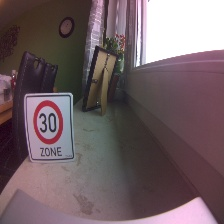dreisiger_zone: (22, 93, 77, 162)
